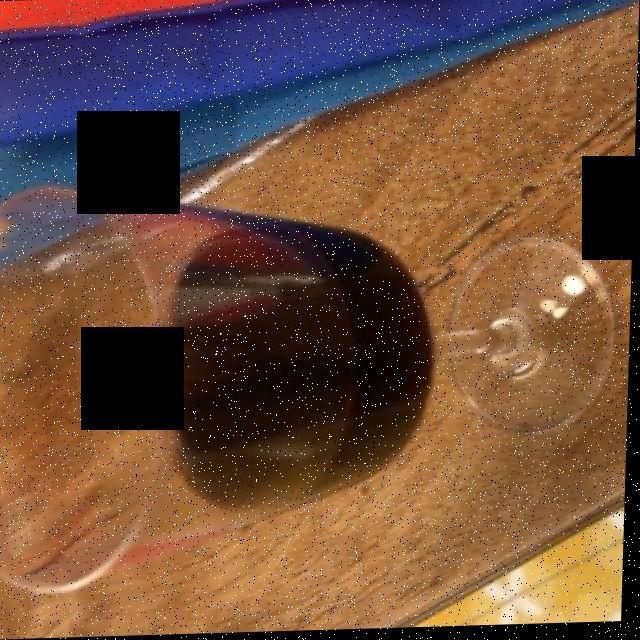wine: (143, 220, 436, 518)
